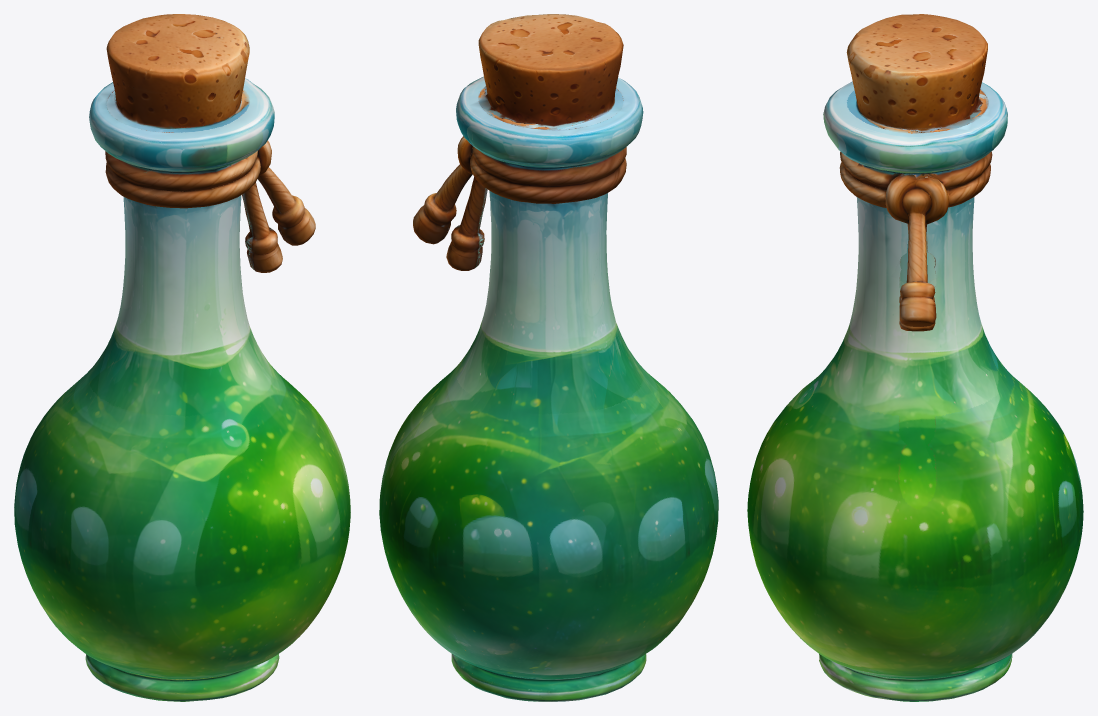
The model's file is potion-green.glb.
3 renders of one model, left to right at view 1: azimuth 30°, elevation 25°; view 2: azimuth 150°, elevation 25°; view 3: azimuth 270°, elevation 25°, orthographic.
Parts seen in each view (by area): view 1: texture_mapping; view 2: texture_mapping; view 3: texture_mapping.
Boxes of the visible parts, x1=… form: texture_mapping: x1=14, y1=14, x2=350, y2=701; texture_mapping: x1=379, y1=14, x2=718, y2=701; texture_mapping: x1=747, y1=14, x2=1083, y2=701.
Bounding box in the file's own units: 0.491 × 1 × 0.4914.
1 material, 1 textured.
